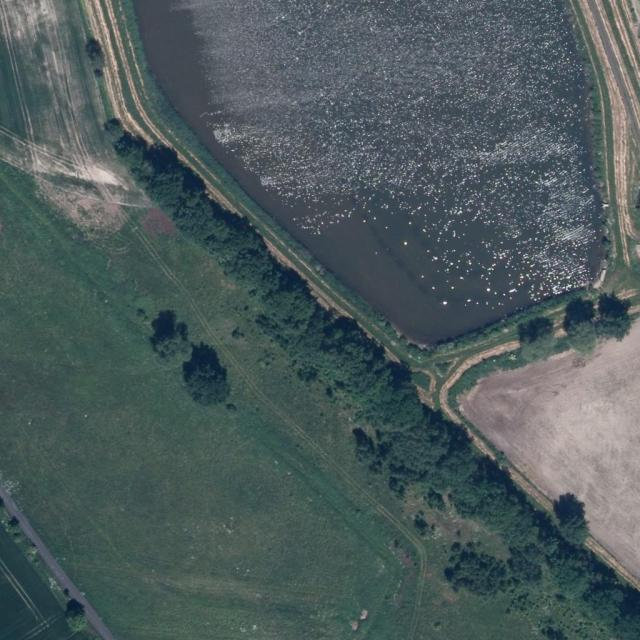agricultural_land: (0, 527, 73, 640)
